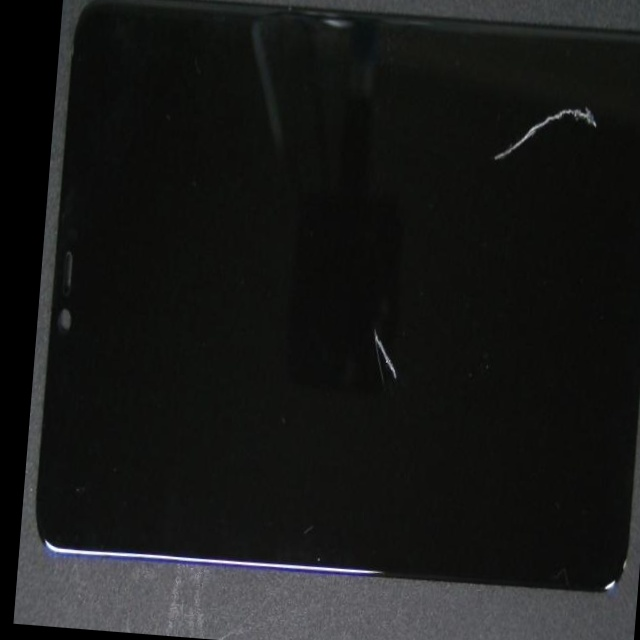scratch: (198, 81, 562, 543), (376, 0, 640, 183)
